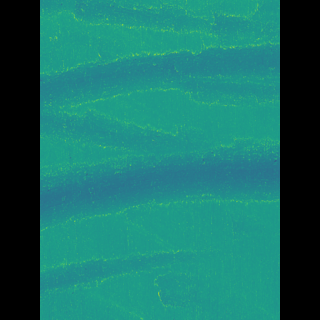Loch: (69, 35, 250, 149), (69, 133, 249, 236), (68, 244, 186, 300), (68, 0, 250, 33)
